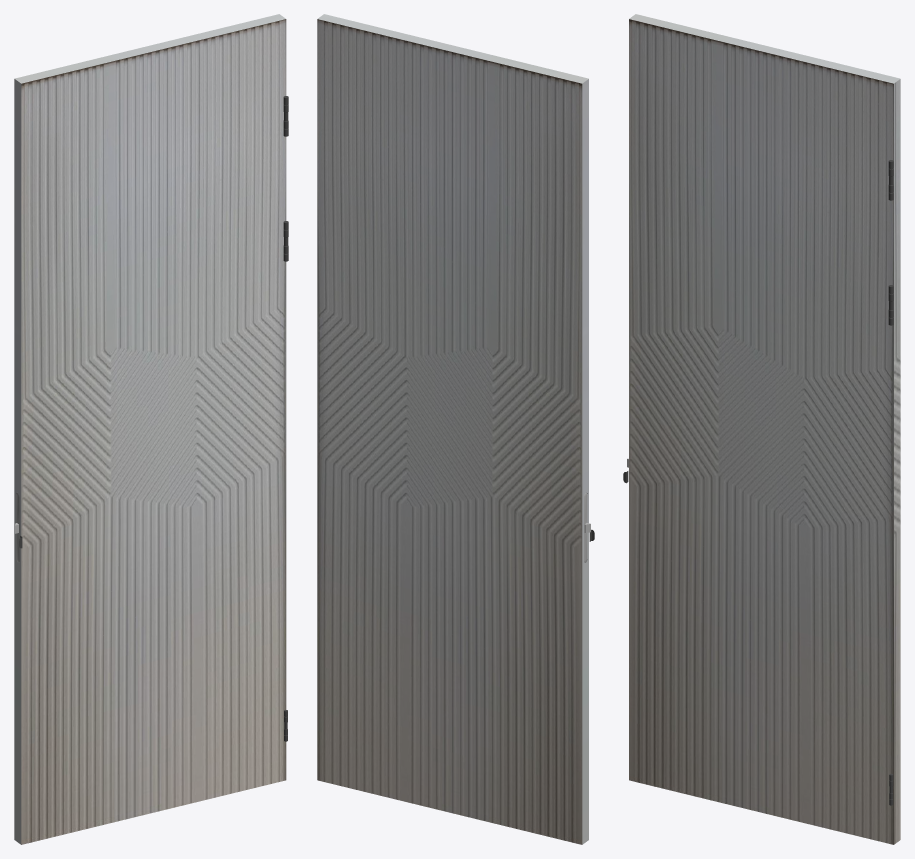
The model's file is 67_VEGAS_Door.glb.
3 views of the same model, side by side, from view 1: azimuth 30°, elevation 25°; view 2: azimuth 150°, elevation 25°; view 3: azimuth 330°, elevation 25° (orthographic).
Parts seen in each view (by area): view 1: 67_VEGAS_Door; view 2: 67_VEGAS_Door; view 3: 67_VEGAS_Door.
Boxes of the visible parts, bbox=[...] form: 67_VEGAS_Door: bbox=[14, 14, 288, 844]; 67_VEGAS_Door: bbox=[317, 14, 594, 844]; 67_VEGAS_Door: bbox=[623, 14, 900, 844].
Bounding box in the file's own units: 0.8148 × 2.2 × 0.0489.
3 materials, 1 textured.
